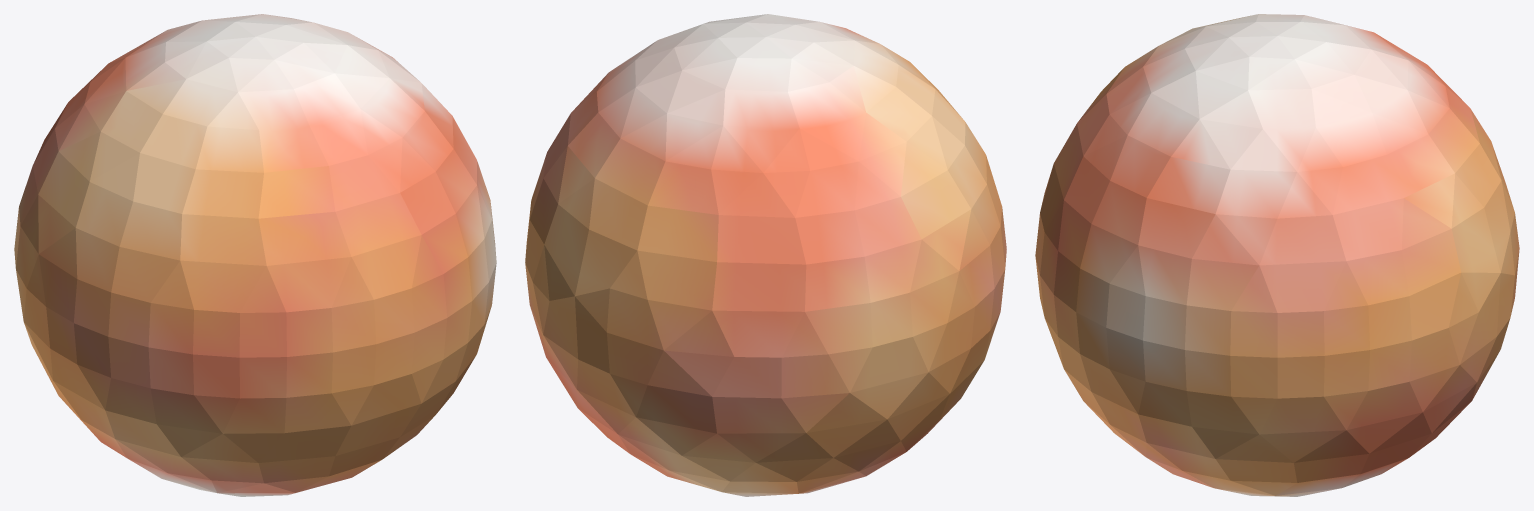
File: Planet.fbx
The picture shows the model from 3 angles, left to right: view 1: azimuth 30°, elevation 25°; view 2: azimuth 150°, elevation 25°; view 3: azimuth 270°, elevation 25°; orthographic projection.
Visible parts, largest first — view 1: Sphere; view 2: Sphere; view 3: Sphere.
Part boxes in pixels (x1,y1,x2,y2): Sphere: (14, 14, 496, 496); Sphere: (525, 14, 1006, 496); Sphere: (1035, 14, 1519, 496).
Size of the model in its own units: 63158 by 63158 by 63151.
Materials: 1 (1 with a texture image).
